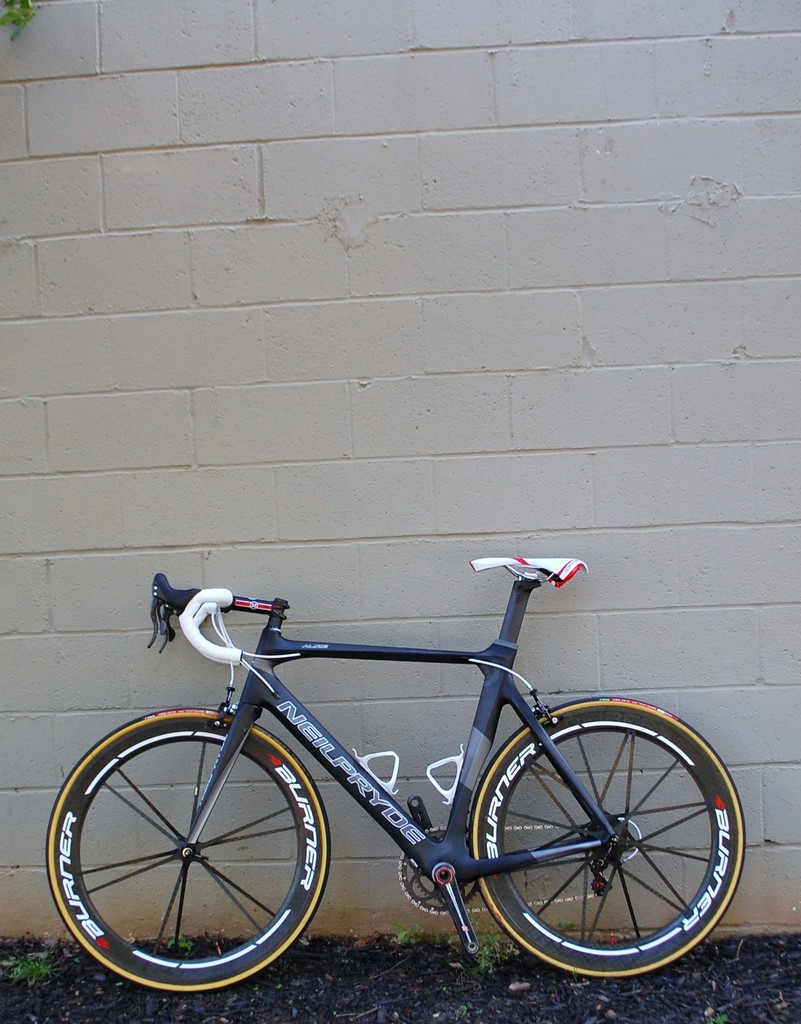Bike: (53, 548, 750, 974)
